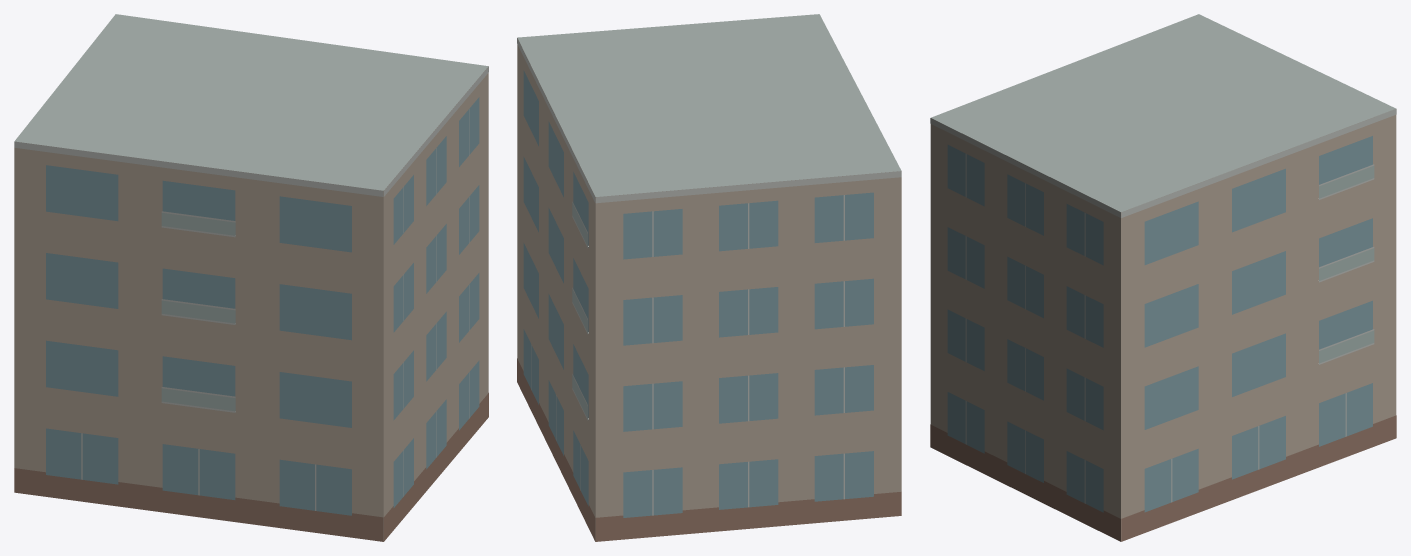
File: survey-upis-32494017.glb
3 renders of one model, left to right at view 1: azimuth 30°, elevation 25°; view 2: azimuth 150°, elevation 25°; view 3: azimuth 270°, elevation 25°, orthographic. The views are drawn at different scales.
Visible parts, largest first — view 1: survey-upis-32494017.tmp; view 2: survey-upis-32494017.tmp; view 3: survey-upis-32494017.tmp.
Part boxes in pixels (x1,y1,x2,y2): survey-upis-32494017.tmp: (14,14,488,541); survey-upis-32494017.tmp: (517,14,901,541); survey-upis-32494017.tmp: (930,14,1396,541).
Bounding box in the file's own units: 17.56 × 13.6 × 17.43.
